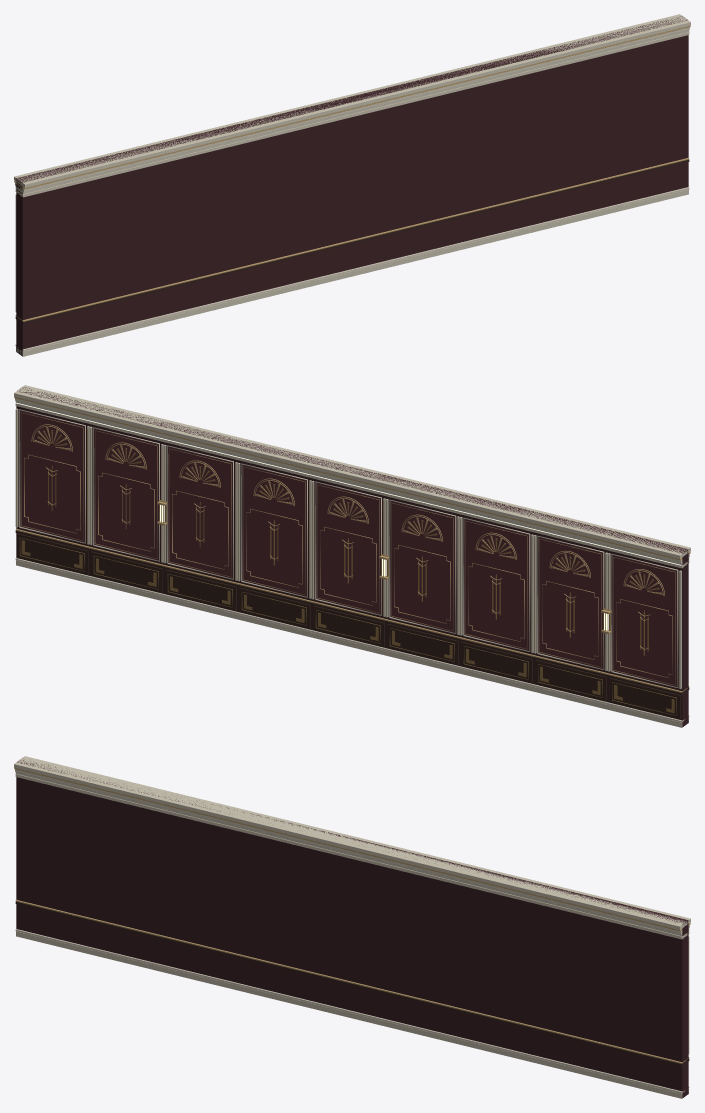
The model's file is hotel-entry-wall-east.glb.
3 renders of one model, top to bottom at view 1: azimuth 30°, elevation 25°; view 2: azimuth 150°, elevation 25°; view 3: azimuth 330°, elevation 25°, orthographic.
Visible parts, largest first — view 1: Entry wall-east / Entry deep oxblood reveals, Entry wall-east / Entry carved limestone, Entry wall-east / Entry ivory marble, Entry wall-east / Entry champagne brass, Entry wall-east / Entry dark walnut; view 2: Entry wall-east / Entry smoky oxblood lacquer, Entry wall-east / Entry carved limestone, Entry wall-east / Entry dark walnut, Entry wall-east / Entry champagne brass, Entry wall-east / Entry deep oxblood reveals, Entry wall-east / Entry aged bronze, Entry wall-east / Entry ivory marble, Entry wall-east / Entry warm opal; view 3: Entry wall-east / Entry deep oxblood reveals, Entry wall-east / Entry carved limestone, Entry wall-east / Entry ivory marble, Entry wall-east / Entry champagne brass, Entry wall-east / Entry dark walnut.
Boxes of the visible parts, x1,y1,x2,y2 form: Entry wall-east / Entry deep oxblood reveals: (16, 16, 688, 356); Entry wall-east / Entry carved limestone: (14, 14, 690, 356); Entry wall-east / Entry ivory marble: (15, 27, 689, 351); Entry wall-east / Entry champagne brass: (14, 25, 690, 321); Entry wall-east / Entry dark walnut: (15, 159, 689, 324); Entry wall-east / Entry smoky oxblood lacquer: (20, 410, 677, 686); Entry wall-east / Entry carved limestone: (14, 385, 690, 727); Entry wall-east / Entry dark walnut: (15, 530, 689, 719); Entry wall-east / Entry champagne brass: (14, 396, 690, 692); Entry wall-east / Entry deep oxblood reveals: (16, 387, 688, 727); Entry wall-east / Entry aged bronze: (16, 411, 679, 715); Entry wall-east / Entry ivory marble: (15, 398, 689, 722); Entry wall-east / Entry warm opal: (15, 402, 681, 630); Entry wall-east / Entry deep oxblood reveals: (16, 760, 688, 1098); Entry wall-east / Entry carved limestone: (14, 756, 690, 1098); Entry wall-east / Entry ivory marble: (15, 769, 689, 1093); Entry wall-east / Entry champagne brass: (14, 767, 690, 1063); Entry wall-east / Entry dark walnut: (15, 901, 689, 1066).
Size of the model in its own units: 27.28 by 6.8 by 0.833.
8 materials, 2 textured.
